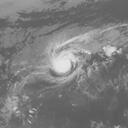cyclone: (45, 49, 84, 84)
